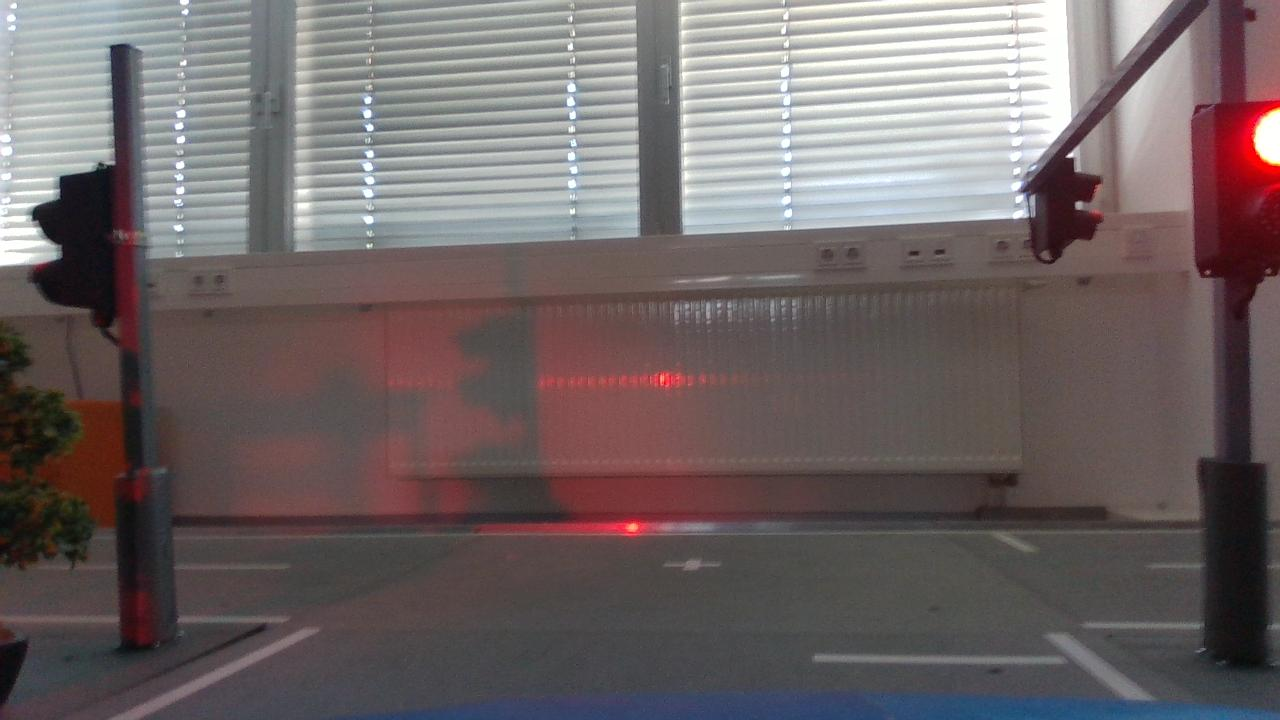traffic_light_red: (1179, 88, 1280, 287)
